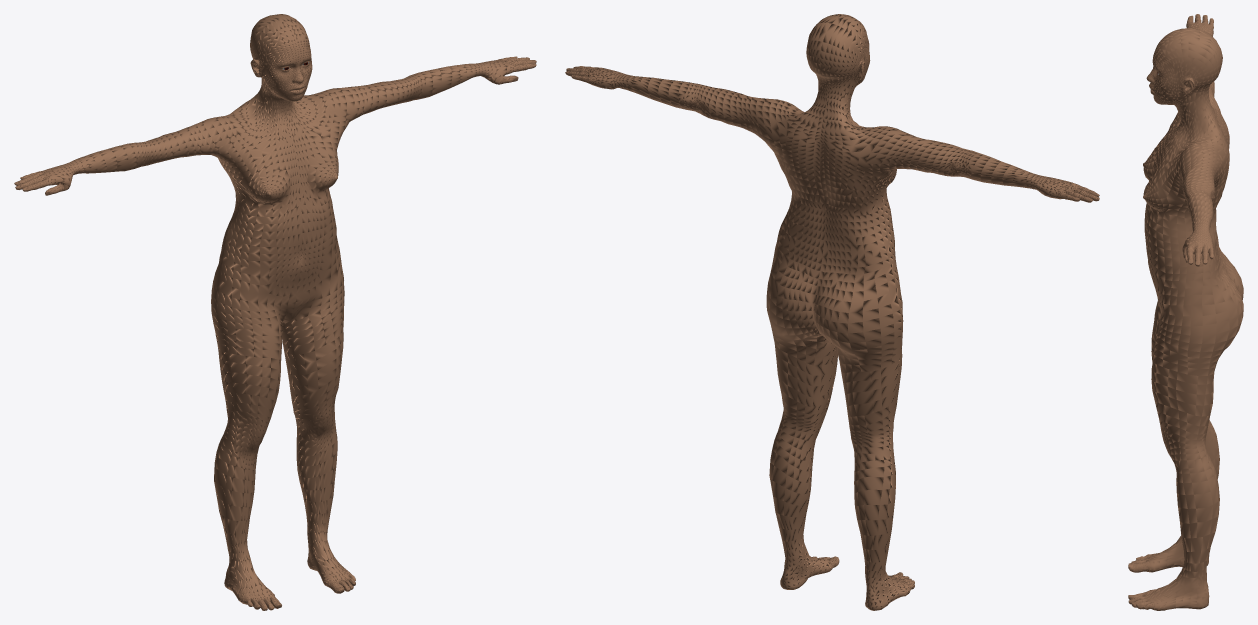
Rendered from f_apple.fbx.
3 views of the same model, side by side, from view 1: azimuth 30°, elevation 25°; view 2: azimuth 150°, elevation 25°; view 3: azimuth 270°, elevation 25° (orthographic). The views are drawn at different scales.
Visible parts, largest first — view 1: female_genericMesh; view 2: female_genericMesh; view 3: female_genericMesh.
Part boxes in pixels (left/top/right/bottom): female_genericMesh: left=14, top=14, right=536, bottom=610; female_genericMesh: left=565, top=14, right=1099, bottom=610; female_genericMesh: left=1128, top=14, right=1243, bottom=610.
Size of the model in its own units: 154 by 159 by 30.01.
Materials: 2 (1 with a texture image).
